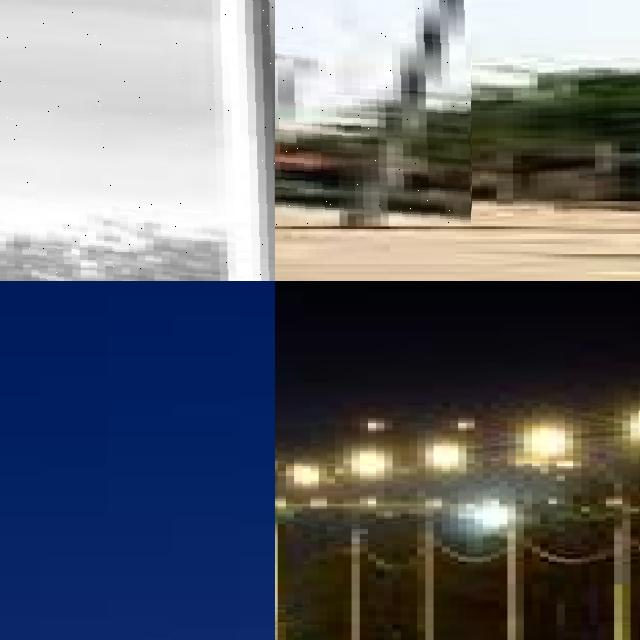street light: (0, 0, 275, 281), (275, 0, 471, 226), (532, 428, 634, 640), (433, 443, 523, 640), (343, 450, 429, 640), (294, 466, 368, 640), (275, 47, 316, 142)
